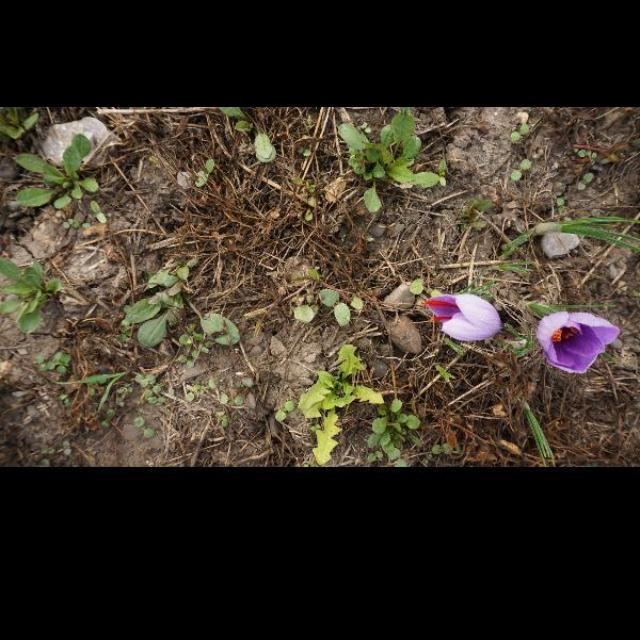flower: (536, 311, 620, 375), (422, 293, 502, 343)
